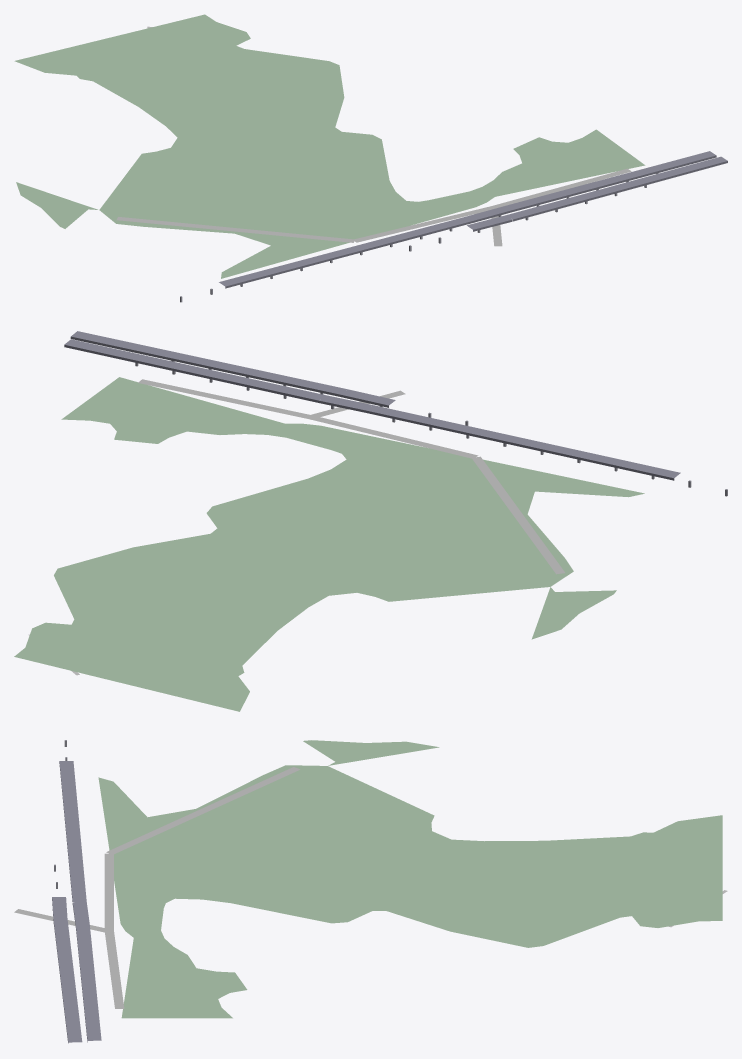
3 renders of one model, top to bottom at view 1: azimuth 30°, elevation 25°; view 2: azimuth 150°, elevation 25°; view 3: azimuth 270°, elevation 25°, orthographic. The views are drawn at different scales.
Size of the model in its own units: 549 by 8.11 by 533.
